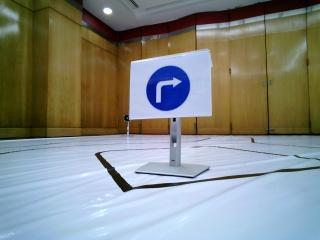right: (131, 63, 209, 111)
